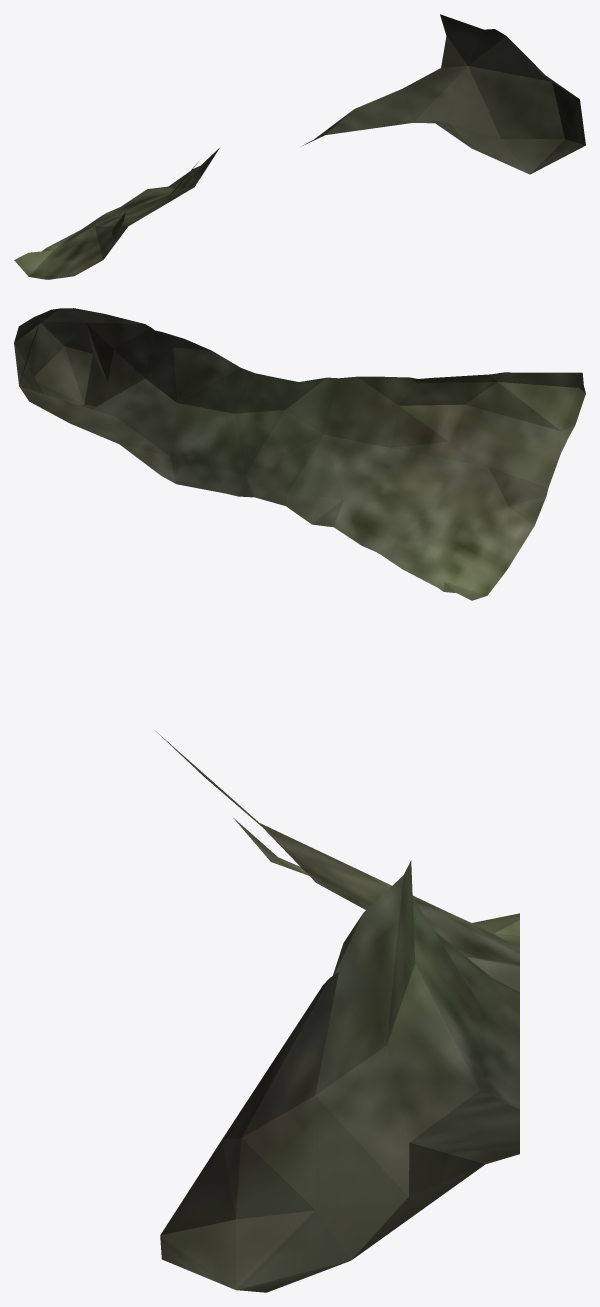
3 views of the same model, one above another, from view 1: azimuth 30°, elevation 25°; view 2: azimuth 150°, elevation 25°; view 3: azimuth 270°, elevation 25° (orthographic). The views are drawn at different scales.
Size of the model in its own units: 3.99 by 1.15 by 1.54.
1 material, 1 textured.
